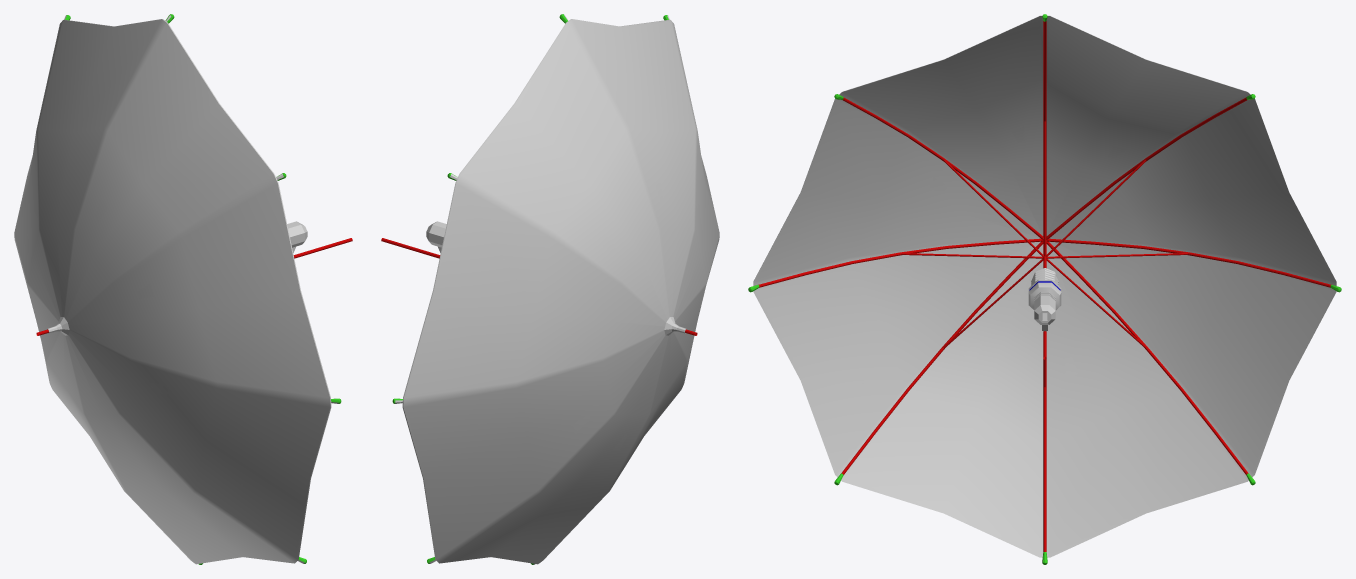
Rendered from Umbrella.fbx.
3 renders of one model, left to right at view 1: azimuth 30°, elevation 25°; view 2: azimuth 150°, elevation 25°; view 3: azimuth 270°, elevation 25°, orthographic. The views are drawn at different scales.
Visible parts, largest first — view 1: Umbrella 1; view 2: Umbrella 1; view 3: Umbrella 1.
Boxes of the visible parts, <box> form: Umbrella 1: <box>14,14,352,564</box>; Umbrella 1: <box>381,14,719,564</box>; Umbrella 1: <box>748,14,1341,564</box>.
Bounding box in the file's own units: 59.94 × 102 × 102.
